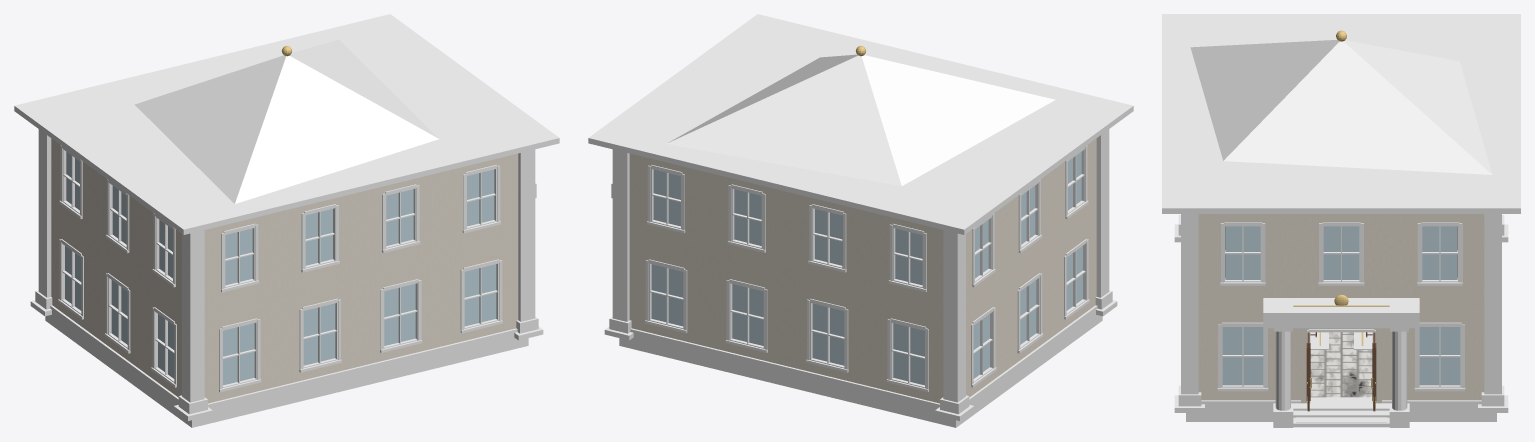
Rendered from gedung-perpustakaan-v4.glb.
3 views of the same model, side by side, from view 1: azimuth 30°, elevation 25°; view 2: azimuth 150°, elevation 25°; view 3: azimuth 270°, elevation 25° (orthographic). The views are drawn at different scales.
Parts seen in each view (by area): view 1: Merged_KayuGelap, Merged_Plester, Atap, Merged_Kaca, Merged_Batu, Merged_PlesterGelap; view 2: Merged_KayuGelap, Merged_Plester, Atap, Merged_Kaca, Merged_Batu, Merged_PlesterGelap; view 3: Merged_KayuGelap, Atap, Merged_Plester, Merged_PlesterGelap, Merged_Kaca, Merged_Batu, LantaiMarmer, Merged_Mahoni, Merged_Emas.
Boxes of the visible parts, left/top/right/bottom form: Merged_KayuGelap: left=14, top=14, right=559, bottom=389; Merged_Plester: left=51, top=138, right=518, bottom=403; Atap: left=134, top=39, right=438, bottom=203; Merged_Kaca: left=65, top=152, right=496, bottom=385; Merged_Batu: left=30, top=200, right=543, bottom=427; Merged_PlesterGelap: left=38, top=129, right=536, bottom=402; Merged_KayuGelap: left=588, top=14, right=1133, bottom=389; Merged_Plester: left=629, top=138, right=1096, bottom=403; Atap: left=666, top=54, right=1055, bottom=186; Merged_Kaca: left=651, top=152, right=1082, bottom=385; Merged_Batu: left=604, top=200, right=1117, bottom=427; Merged_PlesterGelap: left=611, top=129, right=1109, bottom=402; Merged_KayuGelap: left=1162, top=14, right=1520, bottom=402; Atap: left=1190, top=39, right=1492, bottom=174; Merged_Plester: left=1198, top=214, right=1484, bottom=403; Merged_PlesterGelap: left=1181, top=214, right=1501, bottom=410; Merged_Kaca: left=1222, top=226, right=1460, bottom=385; Merged_Batu: left=1174, top=215, right=1508, bottom=427; LantaiMarmer: left=1310, top=332, right=1372, bottom=397; Merged_Mahoni: left=1306, top=332, right=1376, bottom=411; Merged_Emas: left=1293, top=30, right=1389, bottom=408.
Size of the model in its own units: 19.4 by 13.27 by 14.2.
Materials: 26 (4 with a texture image).
